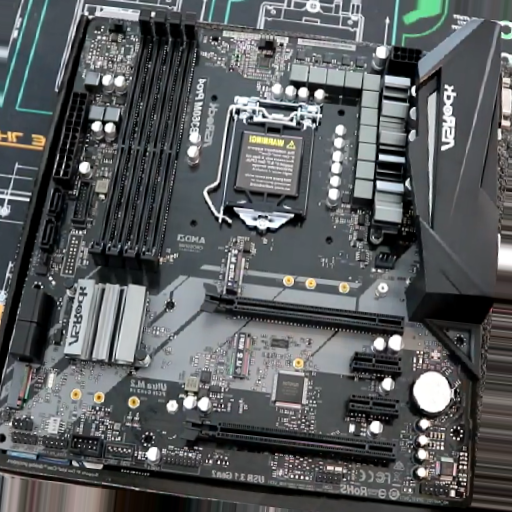CPU: (222, 94, 320, 233)
GPU: (181, 410, 397, 464), (198, 282, 408, 335)
MOTHERBOARD: (1, 15, 490, 512)
RAM: (88, 8, 198, 269)
SSD: (221, 249, 244, 295), (230, 334, 251, 377)
